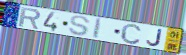4: (42, 11, 60, 33)
C: (119, 23, 143, 46)
I: (92, 17, 104, 40)
J: (145, 28, 163, 47)
R: (18, 6, 43, 31)
S: (68, 15, 91, 37)
